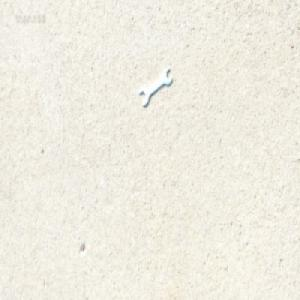Wrench: (139, 67, 172, 106)
